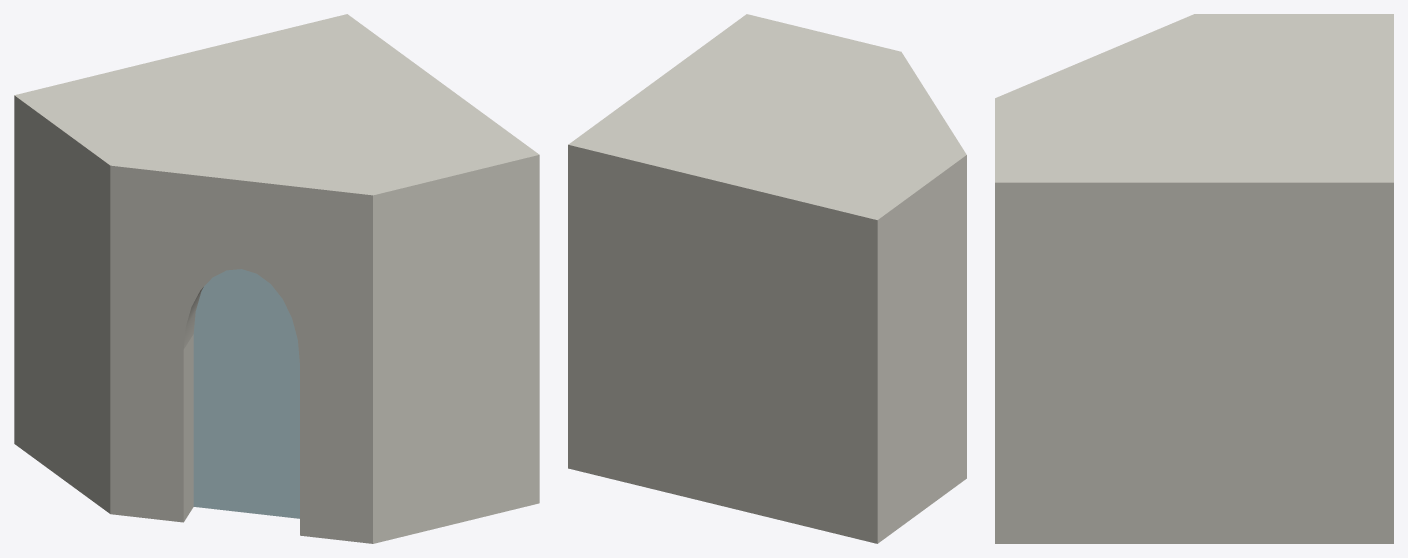
Rendered from Building Story 30.fbx.
3 views of the same model, side by side, from view 1: azimuth 30°, elevation 25°; view 2: azimuth 150°, elevation 25°; view 3: azimuth 270°, elevation 25° (orthographic). The views are drawn at different scales.
Visible parts, largest first — view 1: Building Story 30; view 2: Building Story 30; view 3: Building Story 30.
Part boxes in pixels (x1,y1,x2,y2): Building Story 30: [14, 14, 539, 543]; Building Story 30: [568, 14, 966, 543]; Building Story 30: [995, 14, 1393, 543].
Bounding box in the file's own units: 1 × 1 × 1.
